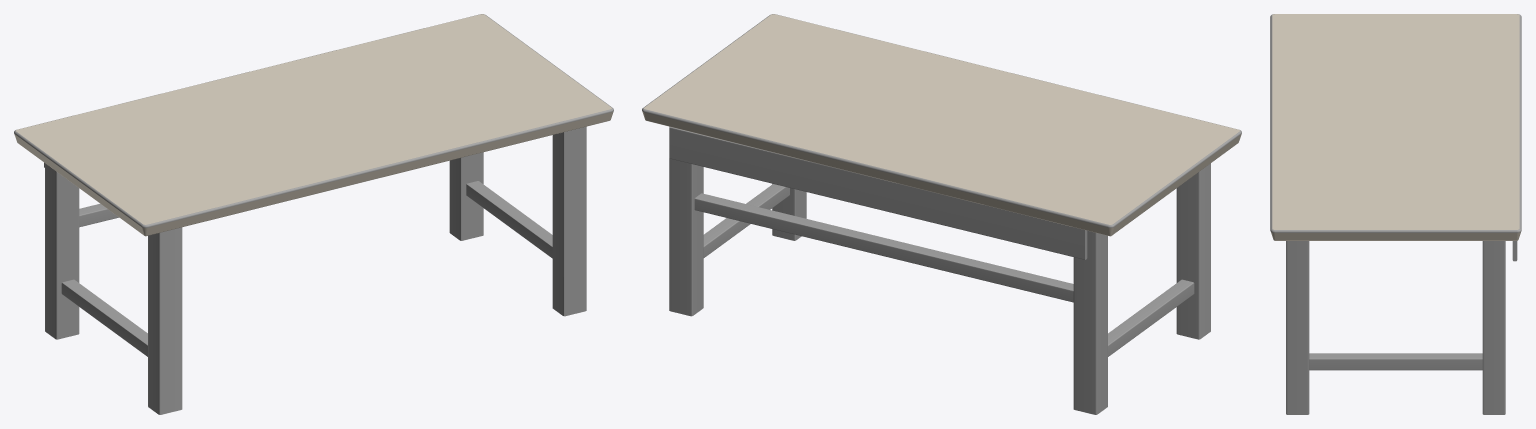
Rendered from z_zhuozi_01.fbx.
3 views of the same model, side by side, from view 1: azimuth 30°, elevation 25°; view 2: azimuth 150°, elevation 25°; view 3: azimuth 270°, elevation 25° (orthographic). The views are drawn at different scales.
Parts seen in each view (by area): view 1: zhuozi_01; view 2: zhuozi_01; view 3: zhuozi_01.
Part boxes in pixels (x1=…): zhuozi_01: x1=14, y1=14, x2=613, y2=414; zhuozi_01: x1=642, y1=14, x2=1241, y2=414; zhuozi_01: x1=1270, y1=14, x2=1521, y2=414.
Size of the model in its own units: 188 by 77.45 by 91.07.
